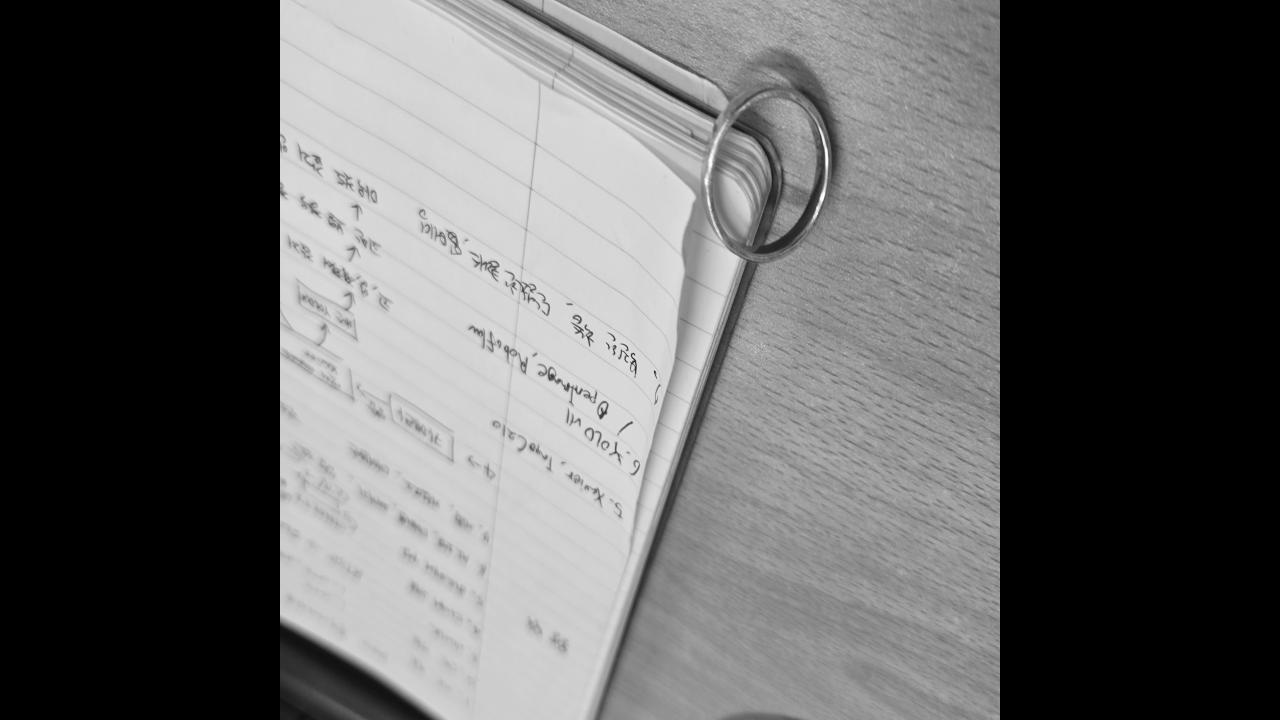ring: (699, 77, 837, 264)
